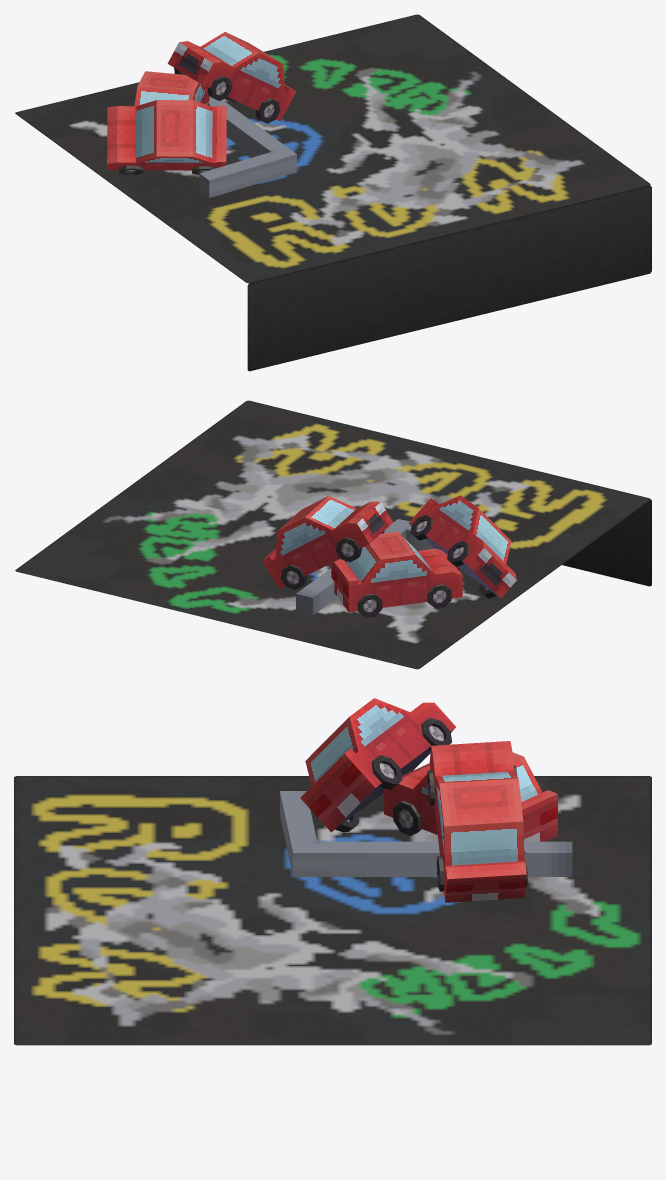
Rendered from cross3.fbx.
The picture shows the model from 3 angles, top to bottom: view 1: azimuth 30°, elevation 25°; view 2: azimuth 150°, elevation 25°; view 3: azimuth 270°, elevation 25°; orthographic projection. The views are drawn at different scales.
Visible parts, largest first — view 1: floord, carmain_2, carmain_1, light2, carmain, light1, cube_1; view 2: floord, carmain, carmain_1, carmain_2, light1, cube_1, cube, cube_2, light2; view 3: floord, carmain_1, carmain_2, light1, carmain, light2, cube_2, cube.
Boxes of the visible parts, box(x1,y1,x2,y2) form: floord: box(15, 14, 651, 371); carmain_2: box(107, 100, 226, 170); carmain_1: box(167, 32, 296, 121); light2: box(199, 147, 296, 197); carmain: box(134, 71, 209, 106); light1: box(208, 96, 295, 156); cube_1: box(174, 68, 280, 123); floord: box(15, 400, 651, 669); carmain: box(331, 531, 462, 612); carmain_1: box(262, 496, 392, 588); carmain_2: box(408, 495, 516, 598); light1: box(296, 519, 405, 615); cube_1: box(280, 531, 384, 589); cube: box(358, 584, 451, 617); cube_2: box(410, 515, 496, 598); light2: box(389, 519, 433, 550); floord: box(14, 776, 651, 1045); carmain_1: box(429, 741, 526, 902); carmain_2: box(300, 698, 455, 832); light1: box(293, 841, 572, 876); carmain: box(384, 752, 557, 841); light2: box(280, 791, 319, 876); cube_2: box(335, 717, 451, 832); cube: box(393, 801, 421, 835).
Size of the model in its own units: 302 by 120 by 300.
Materials: 3 (3 with a texture image).
